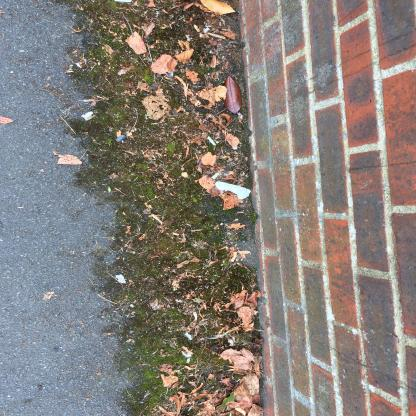trash: (214, 181, 252, 200), (210, 172, 221, 180)
